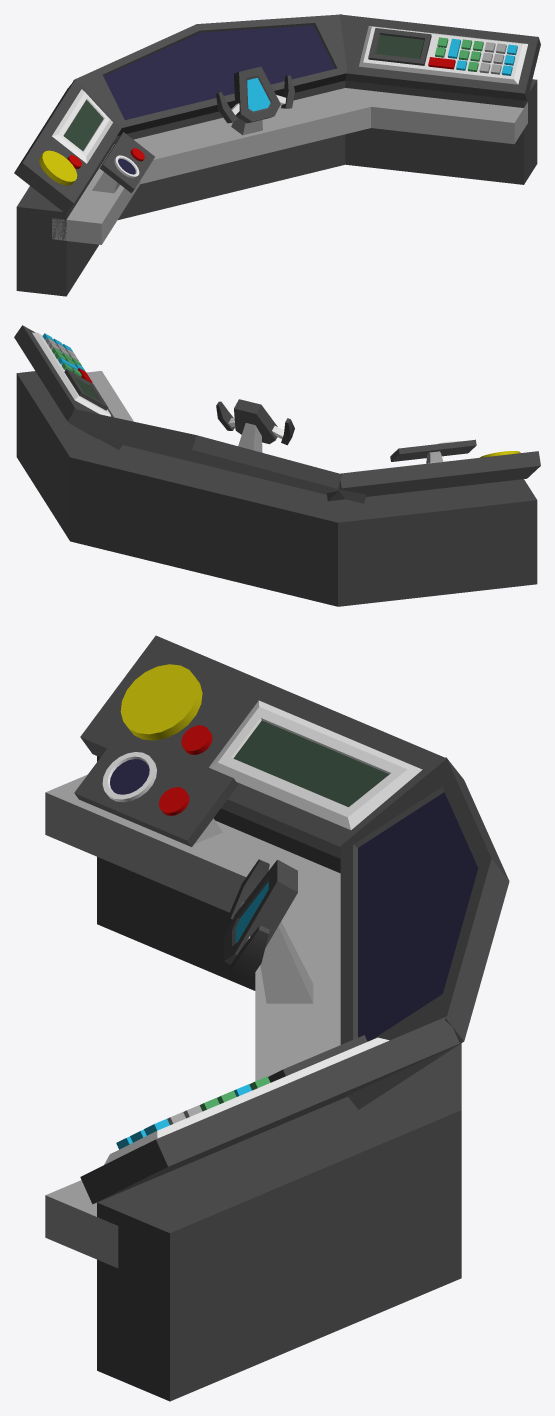
File: Cockpit.fbx
3 renders of one model, top to bottom at view 1: azimuth 30°, elevation 25°; view 2: azimuth 150°, elevation 25°; view 3: azimuth 270°, elevation 25°, orthographic. The views are drawn at different scales.
Visible parts, largest first — view 1: pCube6, pCube4, pCube9, pCube2, pCube8, pCube12, pCube5, pCube7, pCube10, pCube13, pCube40, pCube36 (+7 smaller); view 2: pCube2, pCube5, pCube6, pCube4, pCube7, pCube8, pCube36, pCube42, pCube12, pCube13, pCube33, pCube35; view 3: pCube4, pCube6, pCube7, pCube40, pCube8, pCube10, pCube9, pCube5, pCube42, pCylinder1, pCube12, pCube36 (+5 smaller).
Part boxes in pixels (x1,y1,x2,y2): pCube6: [72, 14, 347, 136]; pCube4: [345, 79, 537, 184]; pCube9: [109, 88, 389, 184]; pCube2: [114, 81, 345, 219]; pCube8: [339, 14, 540, 100]; pCube12: [316, 88, 527, 144]; pCube5: [16, 140, 114, 296]; pCube7: [14, 79, 121, 213]; pCube10: [52, 138, 154, 244]; pCube13: [359, 26, 527, 84]; pCube40: [52, 89, 112, 163]; pCube36: [234, 66, 280, 123]; pCube2: [70, 441, 341, 606]; pCube5: [325, 479, 537, 606]; pCube6: [69, 409, 366, 503]; pCube4: [16, 371, 119, 540]; pCube7: [326, 451, 540, 501]; pCube8: [14, 325, 123, 449]; pCube36: [234, 399, 277, 444]; pCube42: [390, 439, 476, 461]; pCube12: [86, 371, 133, 421]; pCube13: [32, 332, 110, 416]; pCube33: [64, 369, 108, 410]; pCube35: [238, 423, 262, 452]; pCube4: [97, 1085, 461, 1401]; pCube6: [340, 757, 509, 1109]; pCube7: [80, 635, 449, 858]; pCube40: [209, 700, 422, 829]; pCube8: [80, 1016, 459, 1204]; pCube10: [45, 774, 339, 912]; pCube9: [255, 868, 340, 1081]; pCube5: [97, 756, 340, 990]; pCube42: [74, 730, 238, 846]; pCylinder1: [120, 664, 202, 740]; pCube12: [45, 1180, 118, 1268]; pCube36: [224, 859, 297, 964].
Size of the model in its own units: 11.8 by 3.09 by 4.5.
